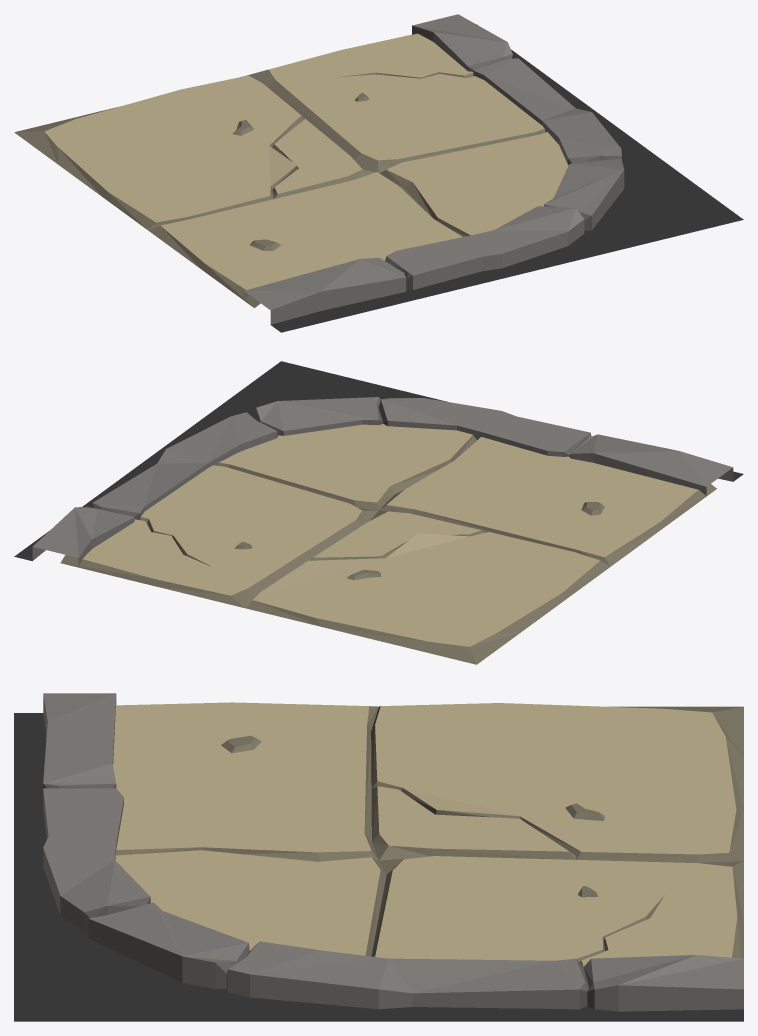
File: Sidewalk_04.FBX
3 renders of one model, top to bottom at view 1: azimuth 30°, elevation 25°; view 2: azimuth 150°, elevation 25°; view 3: azimuth 270°, elevation 25°, orthographic. The views are drawn at different scales.
Parts seen in each view (by area): view 1: Sidewalk_04; view 2: Sidewalk_04; view 3: Sidewalk_04.
Boxes of the visible parts, bbox=[...] form: Sidewalk_04: bbox=[14, 14, 743, 332]; Sidewalk_04: bbox=[14, 361, 743, 664]; Sidewalk_04: bbox=[14, 693, 743, 1021].
Bounding box in the file's own units: 5 × 0.2001 × 5.
